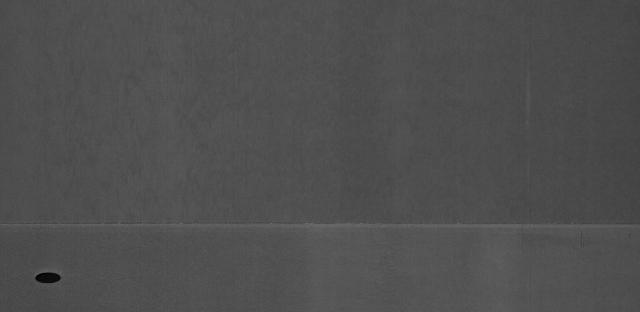punching_hole: (29, 265, 64, 286)
welding_line: (3, 217, 640, 235)
